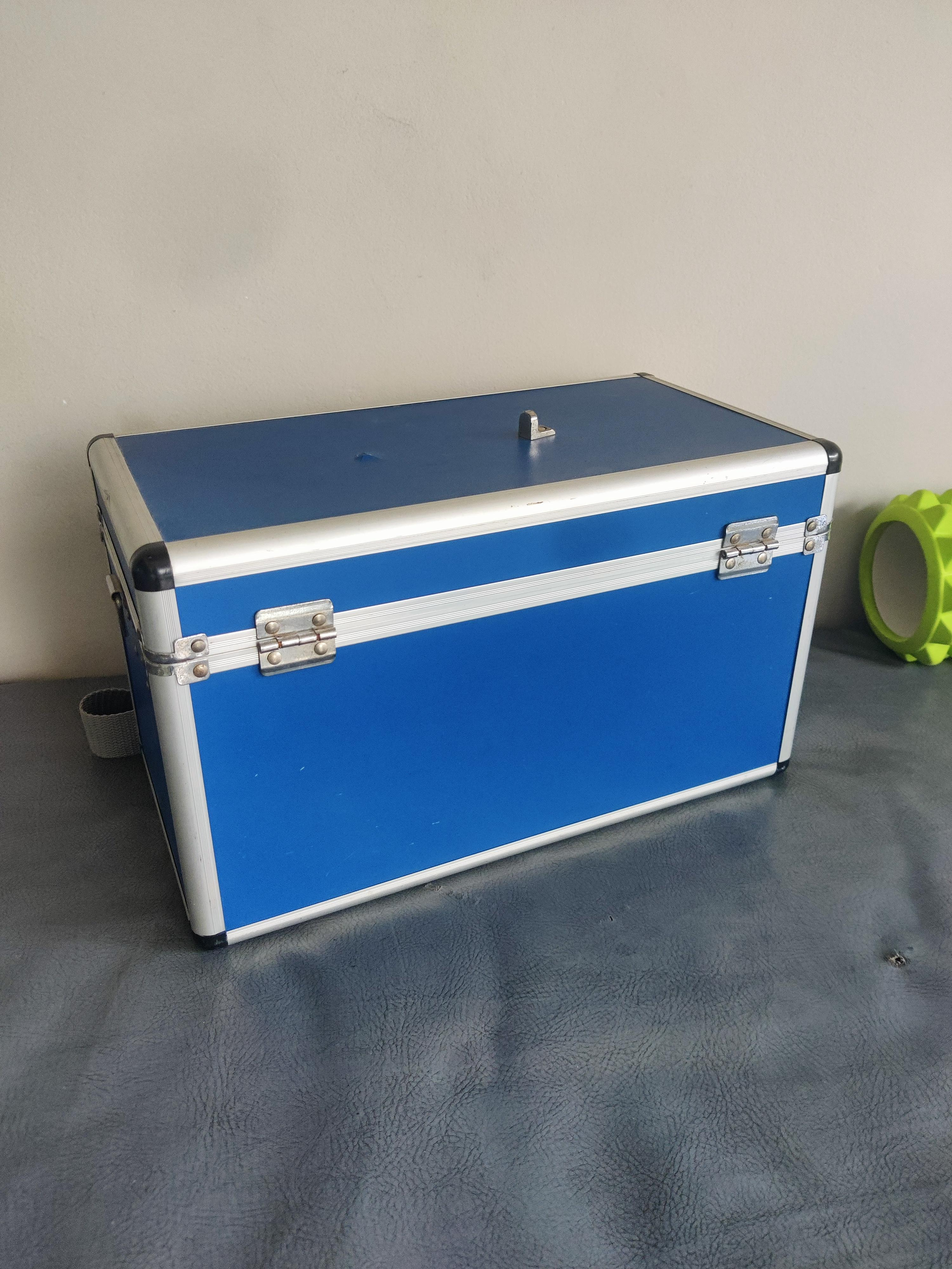FirstAidBox: (48, 355, 868, 978)
